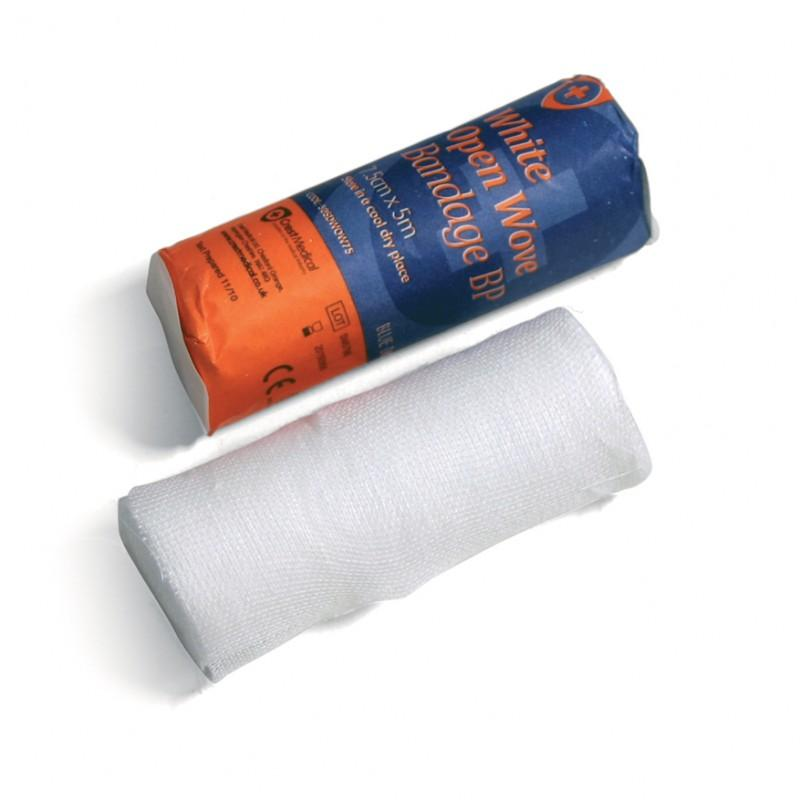bandage: (114, 307, 650, 689)
waste: (148, 70, 655, 438)
